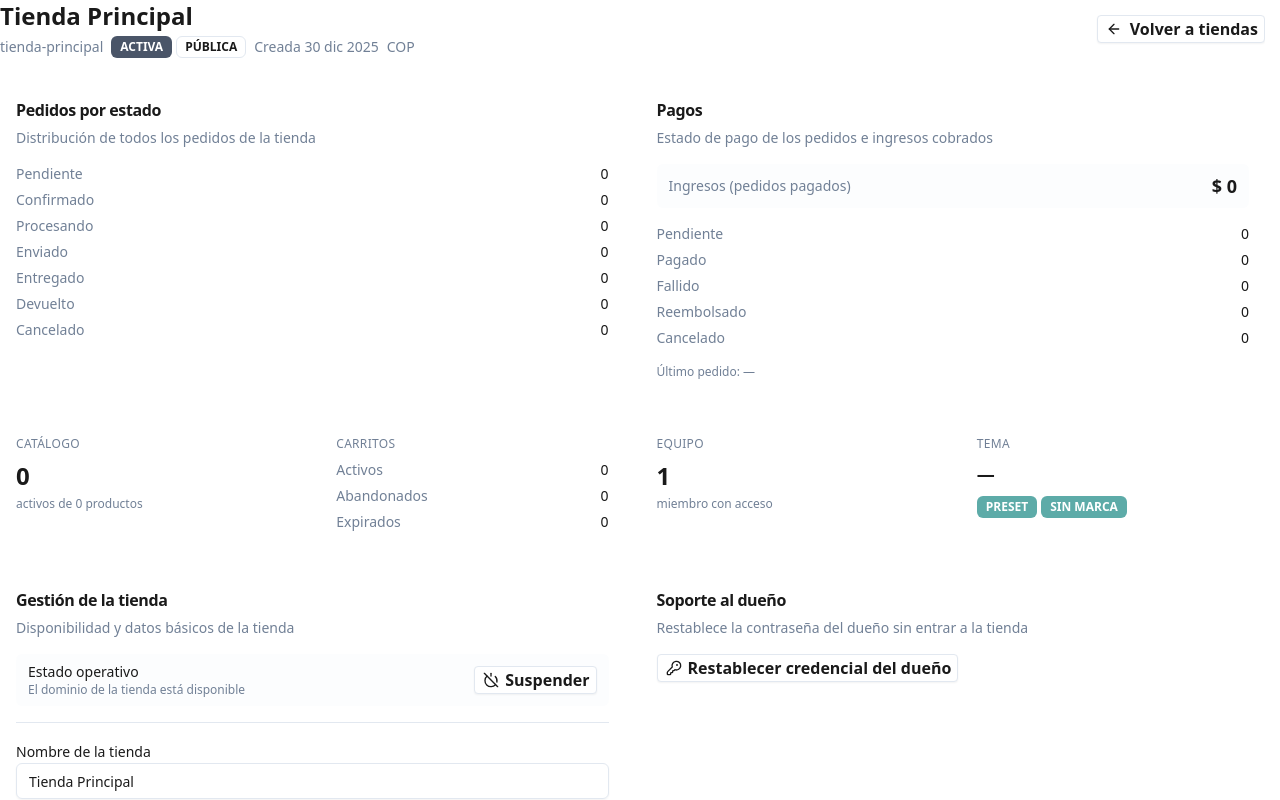
Test case: TenantActiveToggle (D7a) › offers Suspender for an active store and explains storefront-vs-admin before confirming
The image size is (1280, 800).
Click the button "Suspender".
click(535, 680)  # box [474,666,596,694]
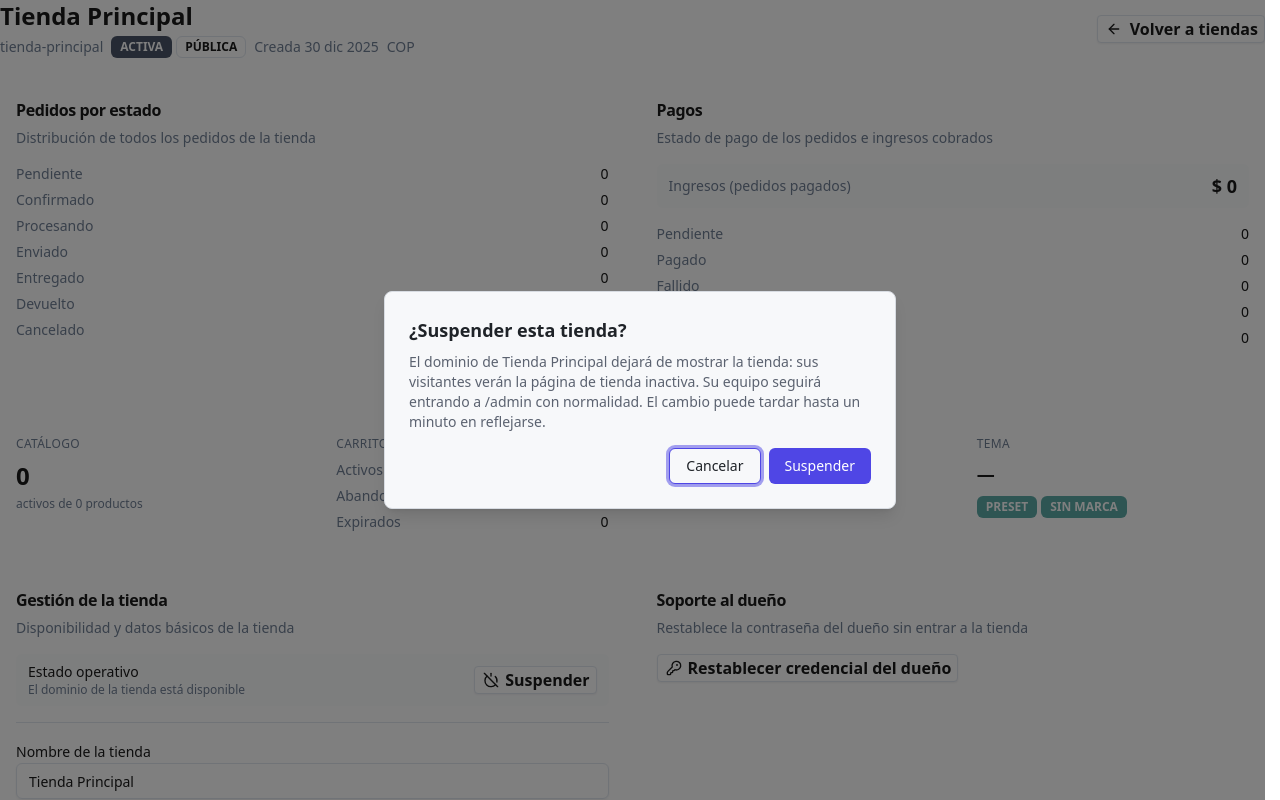
Expected: the text "seguirá entrando a /admin" is shown, [409,352,860,431]
